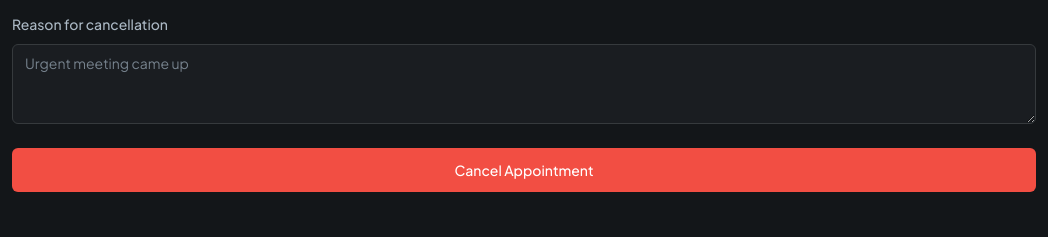
Test: AppointmentForm › VAL-12 cancel: requires a cancellation reason
This screenshot has width=1048, height=237.
Step 1. Click the button "Cancel Appointment" → (524,170), box top-left (12, 148), bottom-right (1036, 192)
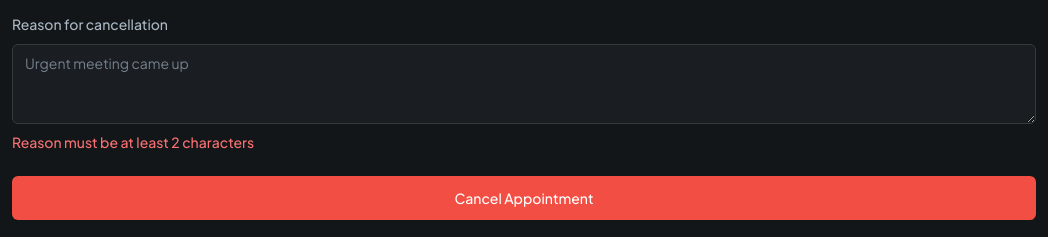
Result: the text "Reason must be at least 2 characters" is shown at top-left (12, 133), bottom-right (254, 151)
